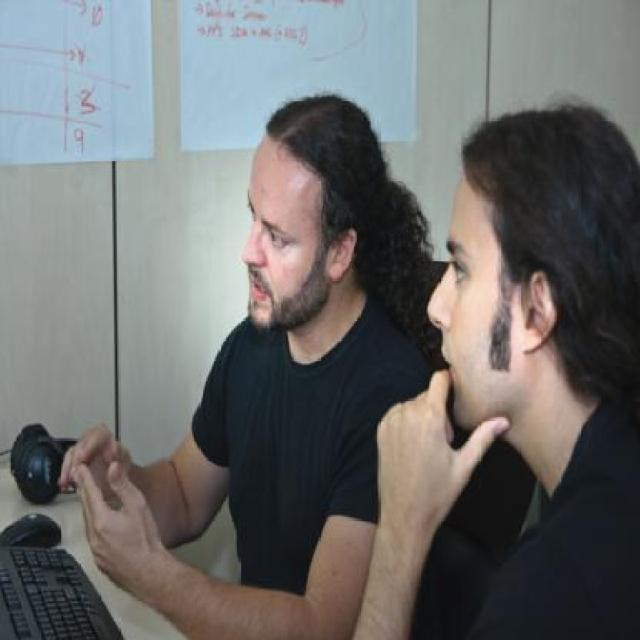earphone: (15, 412, 72, 503)
